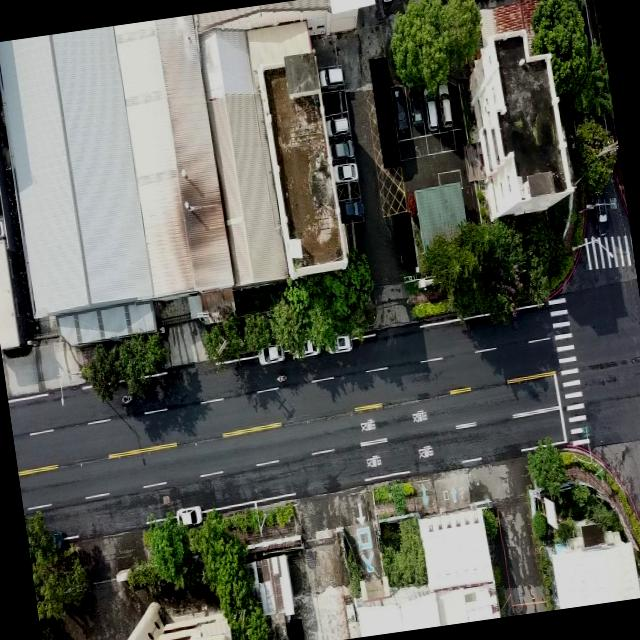car: (587, 183, 613, 241), (435, 80, 456, 130), (422, 84, 442, 134), (336, 196, 366, 226), (318, 62, 348, 92), (391, 86, 409, 134), (331, 159, 361, 187), (406, 85, 424, 130), (323, 111, 352, 138), (176, 502, 204, 528), (325, 332, 355, 356), (257, 342, 286, 366), (328, 136, 357, 160), (292, 334, 320, 358), (0, 215, 6, 243)
